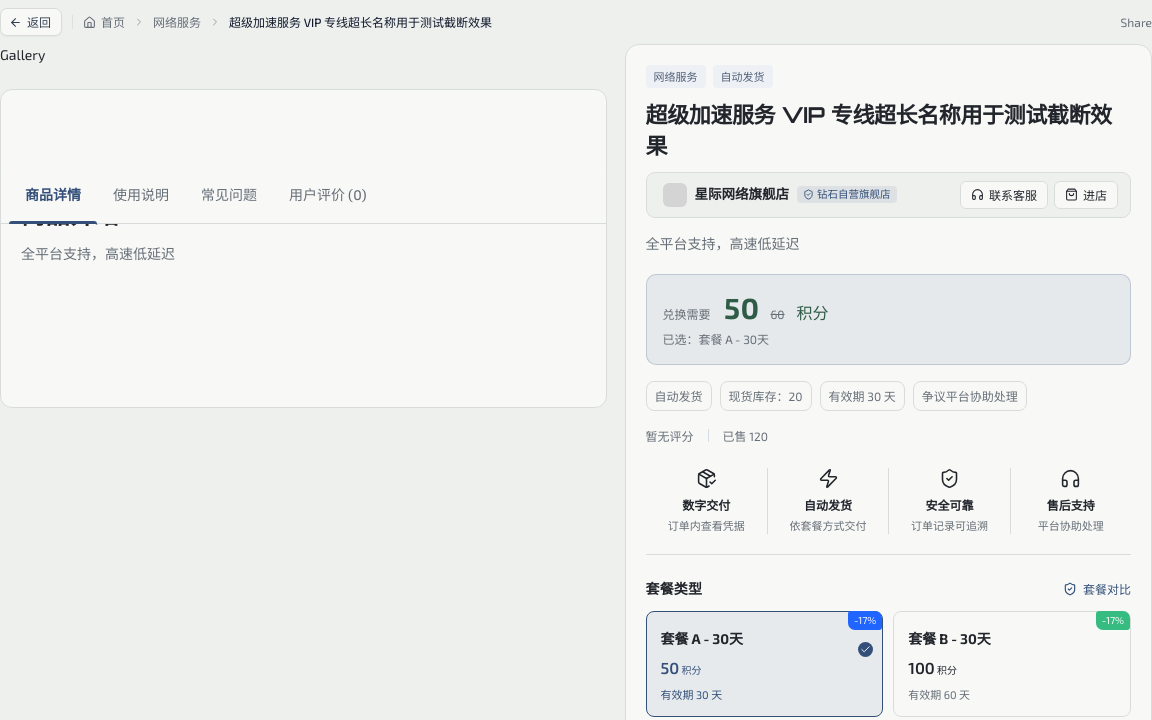
ProductDetail - Merchant Byline and FAQ Pipeline Hub › renders custom avatar and opens a real MerchantHoverCard with a shop link but no demo honours or metrics
Click trigger to open hover card dialog
What coordinates should you click on to do the following:
click the button "星际网络旗舰店 钻石自营旗舰店"
I would click on:
 (780, 195)
Its box is [658, 181, 900, 209].
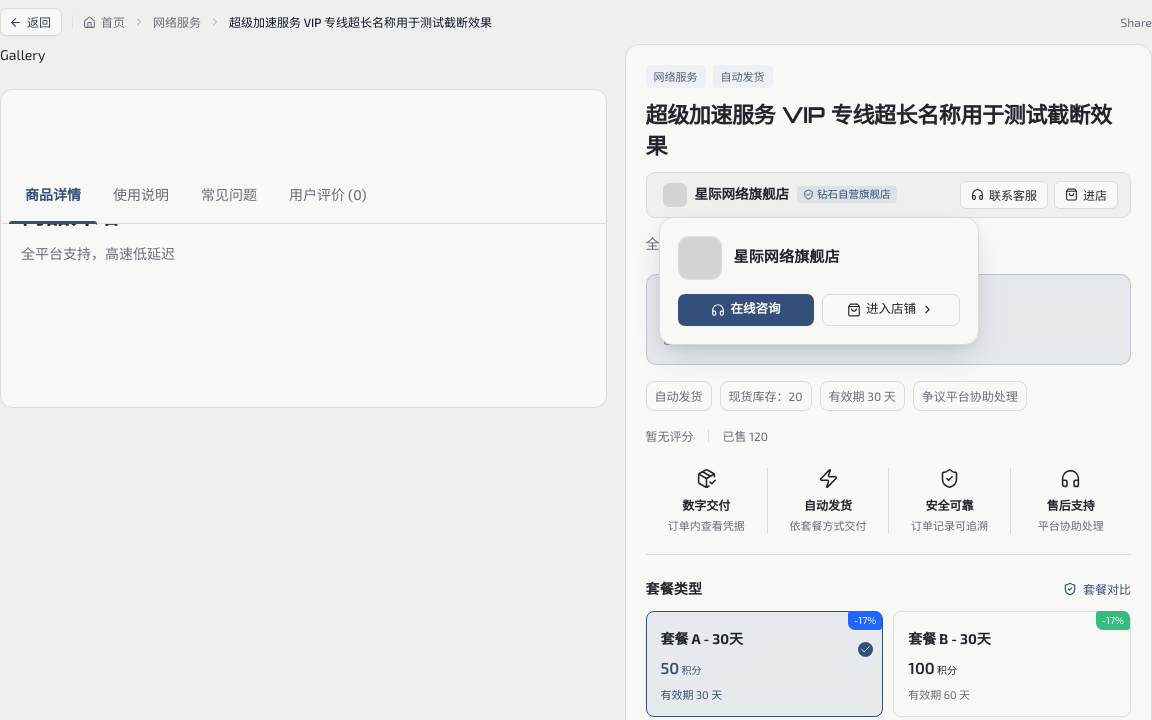
Expected: the dialog named "星际网络旗舰店商家名片" does not show "5年老店", [658, 217, 978, 345]
Expected: the dialog named "星际网络旗舰店商家名片" is shown, [658, 217, 978, 345]
